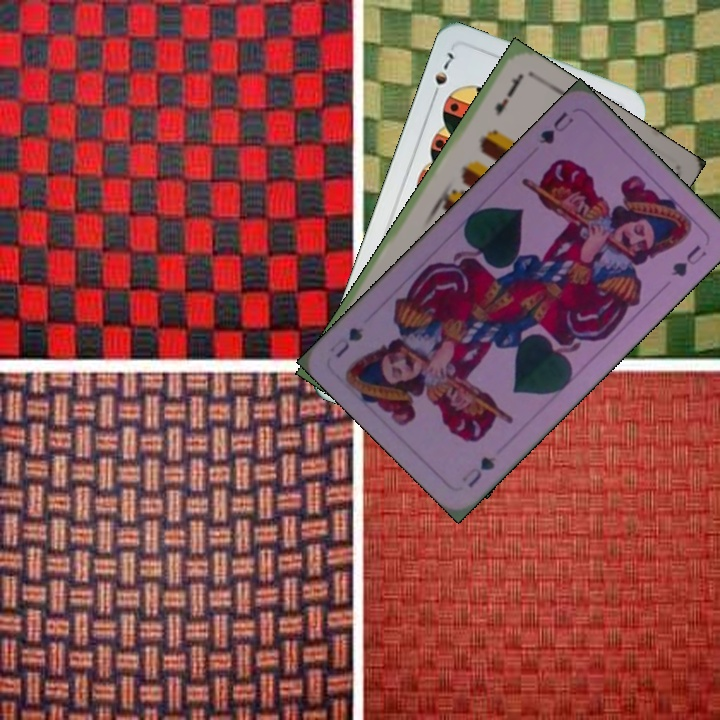E7: (490, 71, 525, 119)
GU: (534, 107, 576, 148), (457, 452, 499, 490)
S7: (428, 48, 457, 103)
